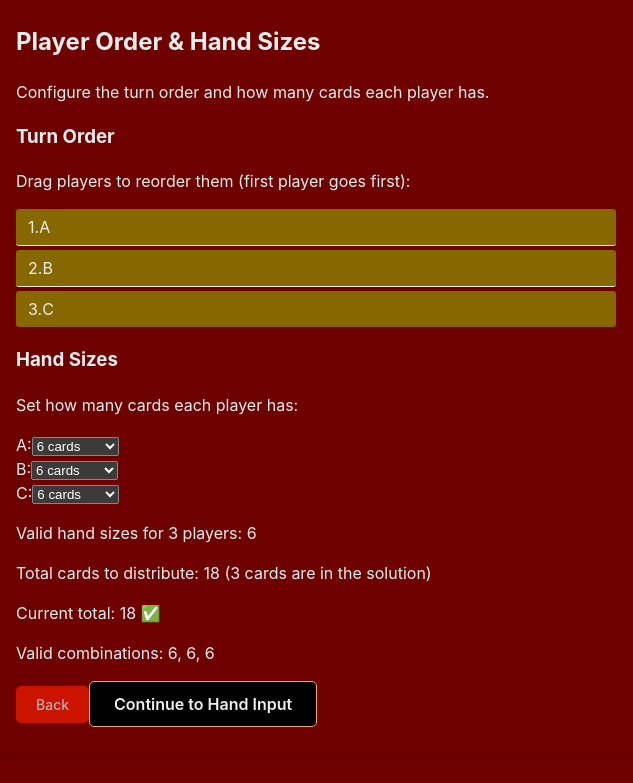
Test case: PlayerOrderSetup › shows validation error when hand sizes don't add up to 18
The image size is (633, 783).
// Change one player's hand size to create an invalid combination
Select "5" in the 1st dropdown: (75, 446) [32, 437, 119, 456]
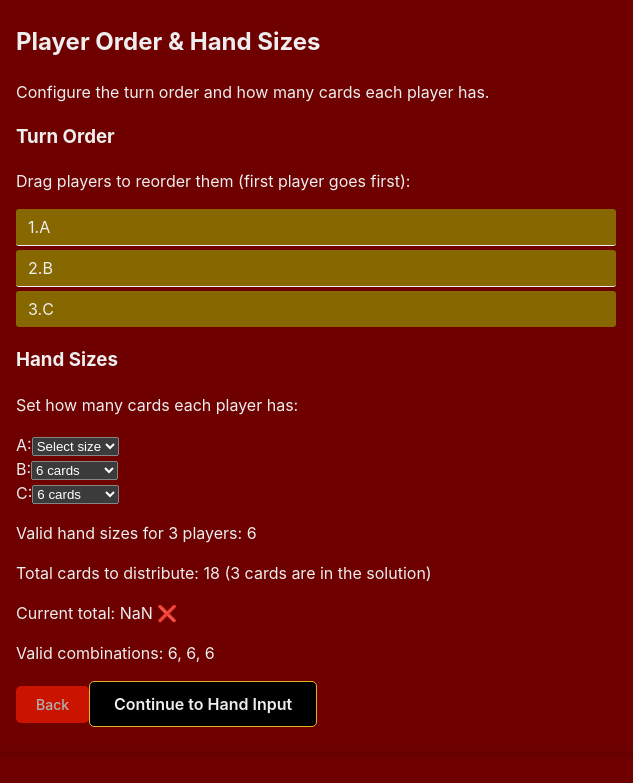
// Try to submit
Click the button "Continue to Hand Input": click(203, 704) [89, 681, 317, 727]
(page scrolled)
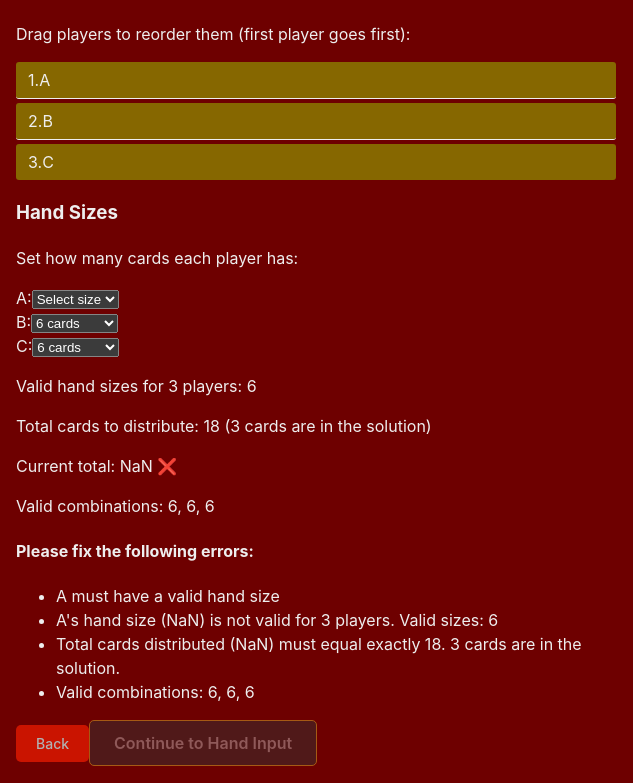
Now the 3rd list item is shown, box [56, 634, 582, 678]
